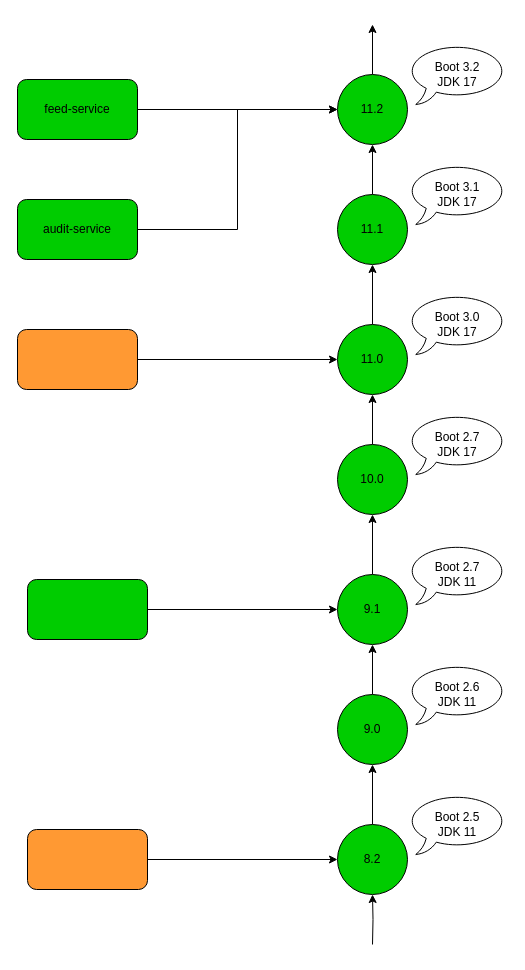
Some shapes in this 525 by 970 pixel diagram are drawn without their labels. The centre of each missing label's shape, as x and y in pixels:
car-servie: point 87,859
hotel-service: point 87,609
MIMS: point 77,359
